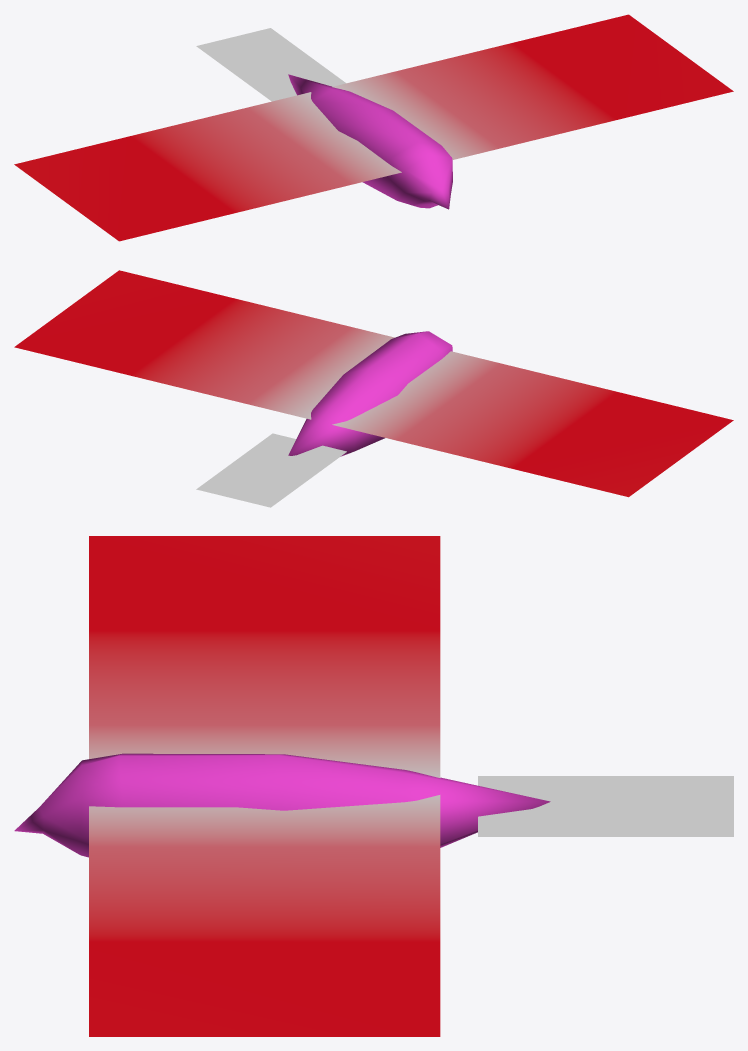
The model's file is SM_Bird.fbx.
The picture shows the model from 3 angles, top to bottom: view 1: azimuth 30°, elevation 25°; view 2: azimuth 150°, elevation 25°; view 3: azimuth 270°, elevation 25°; orthographic projection. The views are drawn at different scales.
Visible parts, largest first — view 1: Bird_Low, Bird_Low.001; view 2: Bird_Low, Bird_Low.001; view 3: Bird_Low, Bird_Low.001.
Part boxes in pixels (x1=…): Bird_Low: x1=14, y1=14, x2=733, y2=241; Bird_Low.001: x1=288, y1=74, x2=452, y2=209; Bird_Low: x1=14, y1=270, x2=733, y2=507; Bird_Low.001: x1=288, y1=331, x2=452, y2=456; Bird_Low: x1=89, y1=536, x2=733, y2=1036; Bird_Low.001: x1=14, y1=753, x2=550, y2=857.
Bounding box in the file's own units: 35.12 × 4.1 × 21.34.
